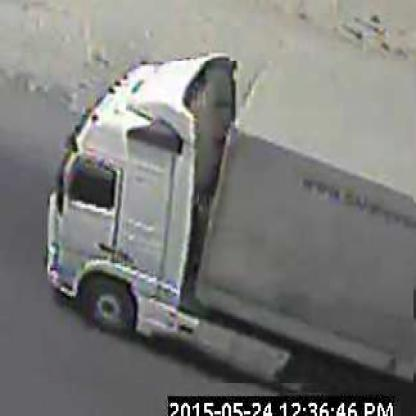container: (49, 62, 416, 386)
